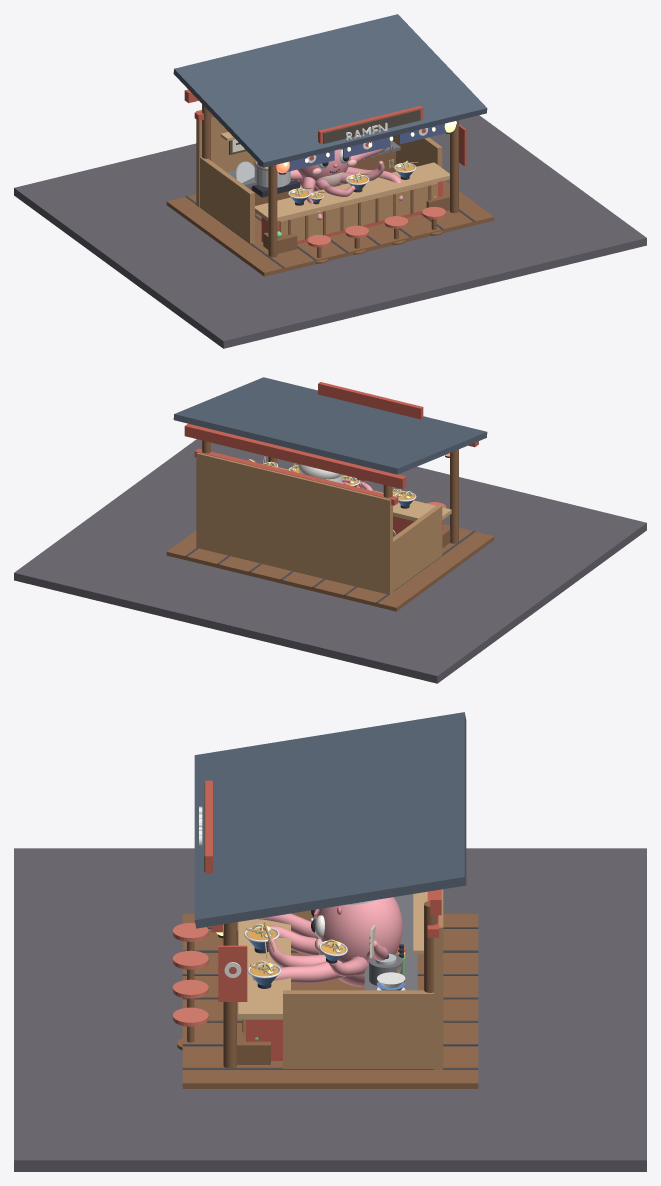
The model's file is octopus_ramen.glb.
3 views of the same model, one above another, from view 1: azimuth 30°, elevation 25°; view 2: azimuth 150°, elevation 25°; view 3: azimuth 270°, elevation 25° (orthographic). The views are drawn at different scales.
Parts seen in each view (by area): view 1: Ground, RoofMain, Deck, CounterFrontPanel, SideWallL, CounterTop, BackWall, SideWallR, SignBoardInner, Post_-3.0_-1.9, Post_3.0_-1.9, CookCounter (+3 smaller); view 2: Ground, BackWall, RoofMain, Deck, RoofBackBeam, SideWallL, SignBoard, BackWallTrim, Post_-3.0_-1.9, CounterTop; view 3: Ground, RoofMain, Deck, SideWallR, OctoHead, CounterTop, BackWall, SignVert, CookTop, Post_3.0_-1.9, CounterBody, Tent_FR (+5 smaller).
Boxes of the visible parts, <box> form: Ground: <box>14,115,646,348</box>; RoofMain: <box>173,14,487,167</box>; Deck: <box>166,171,494,276</box>; CounterFrontPanel: <box>279,182,437,241</box>; SideWallL: <box>200,157,254,243</box>; CounterTop: <box>255,162,449,221</box>; BackWall: <box>196,109,254,207</box>; SideWallR: <box>392,135,442,167</box>; SignBoardInner: <box>323,109,420,143</box>; Post_-3.0_-1.9: <box>268,165,277,257</box>; Post_3.0_-1.9: <box>450,120,458,213</box>; CookCounter: <box>248,151,395,214</box>; Ground: <box>14,439,646,683</box>; BackWall: <box>196,452,392,594</box>; RoofMain: <box>173,377,487,474</box>; Deck: <box>166,524,494,611</box>; RoofBackBeam: <box>184,423,406,489</box>; SideWallL: <box>393,505,442,591</box>; SignBoard: <box>318,382,423,419</box>; BackWallTrim: <box>194,448,398,505</box>; Post_-3.0_-1.9: <box>450,449,458,543</box>; CounterTop: <box>277,467,451,521</box>; Ground: <box>14,848,646,1171</box>; RoofMain: <box>194,712,466,928</box>; Deck: <box>182,914,478,1088</box>; SideWallR: <box>283,990,433,1068</box>; OctoHead: <box>317,897,402,962</box>; CounterTop: <box>238,919,290,1019</box>; BackWall: <box>434,889,443,1069</box>; SignVert: <box>218,945,247,1001</box>; CookTop: <box>364,894,417,990</box>; Post_3.0_-1.9: <box>223,922,236,1067</box>; CounterBody: <box>246,1019,282,1060</box>; Tent_FR: <box>253,960,345,983</box>.
Bounding box in the file's own units: 14 × 4.63 × 12.
